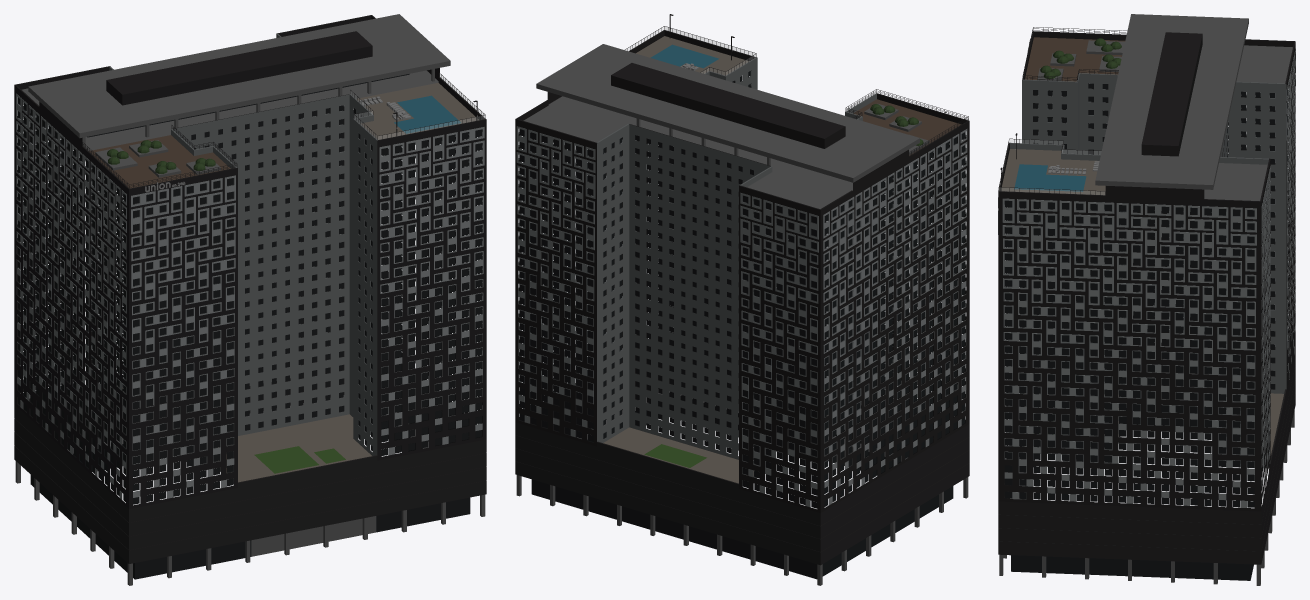
The model's file is union-on-24th-look.glb.
3 views of the same model, side by side, from view 1: azimuth 30°, elevation 25°; view 2: azimuth 150°, elevation 25°; view 3: azimuth 270°, elevation 25° (orthographic). The views are drawn at different scales.
Visible parts, largest first — view 1: n_wall_dark_ribbed, n_wall_silver_ribbed, n_wall_white_frame, n_glass_window, n_wall_podium_screen, n_concrete, n_metal_dark, n_deck_paver, n_glass_storefront, n_deck_wood, n_water_pool, n_plant_lawn (+2 smaller); view 2: n_wall_dark_ribbed, n_wall_silver_ribbed, n_wall_white_frame, n_glass_window, n_wall_podium_screen, n_concrete, n_metal_dark, n_glass_storefront, n_deck_paver, n_deck_wood, n_water_pool, n_plant_lawn (+1 smaller); view 3: n_wall_dark_ribbed, n_wall_white_frame, n_glass_window, n_concrete, n_wall_silver_ribbed, n_wall_podium_screen, n_metal_dark, n_glass_storefront, n_deck_paver, n_deck_wood, n_water_pool, n_plant_green (+1 smaller).
Part boxes in pixels (x1,y1,x2,y2): n_wall_dark_ribbed: (14, 15, 486, 509); n_wall_silver_ribbed: (109, 34, 377, 483); n_wall_white_frame: (16, 93, 484, 499); n_glass_window: (18, 97, 482, 504); n_wall_podium_screen: (14, 340, 486, 563); n_concrete: (15, 14, 485, 585); n_metal_dark: (82, 31, 485, 188); n_deck_paver: (117, 82, 478, 482); n_glass_storefront: (30, 74, 470, 579); n_deck_wood: (89, 135, 230, 188); n_water_pool: (394, 95, 460, 133); n_plant_lawn: (254, 446, 345, 473); n_wall_dark_ribbed: (515, 30, 969, 513); n_wall_silver_ribbed: (597, 57, 876, 486); n_wall_white_frame: (516, 71, 967, 507); n_glass_window: (519, 70, 965, 508); n_wall_podium_screen: (515, 337, 969, 565); n_concrete: (516, 44, 968, 585); n_metal_dark: (611, 14, 968, 166); n_glass_storefront: (531, 392, 953, 579); n_deck_paver: (603, 36, 827, 483); n_deck_wood: (853, 99, 961, 155); n_water_pool: (650, 44, 718, 68); n_plant_lawn: (644, 389, 827, 467); n_wall_dark_ribbed: (998, 31, 1295, 511); n_wall_white_frame: (998, 49, 1295, 507); n_glass_window: (1004, 82, 1294, 507); n_concrete: (999, 14, 1294, 585); n_wall_silver_ribbed: (1008, 73, 1286, 468); n_wall_podium_screen: (998, 344, 1295, 564); n_metal_dark: (998, 27, 1202, 195); n_glass_storefront: (1011, 404, 1253, 580); n_deck_paver: (1001, 149, 1283, 455); n_deck_wood: (1025, 37, 1125, 81); n_water_pool: (1014, 164, 1086, 191); n_plant_green: (1040, 38, 1121, 79).
Size of the model in its own units: 85.26 by 95.48 by 62.41.
